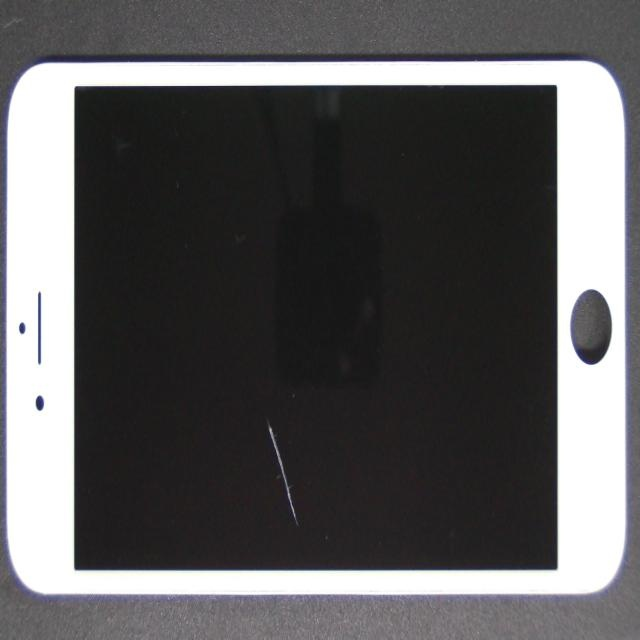scratch: (108, 143, 403, 640)
